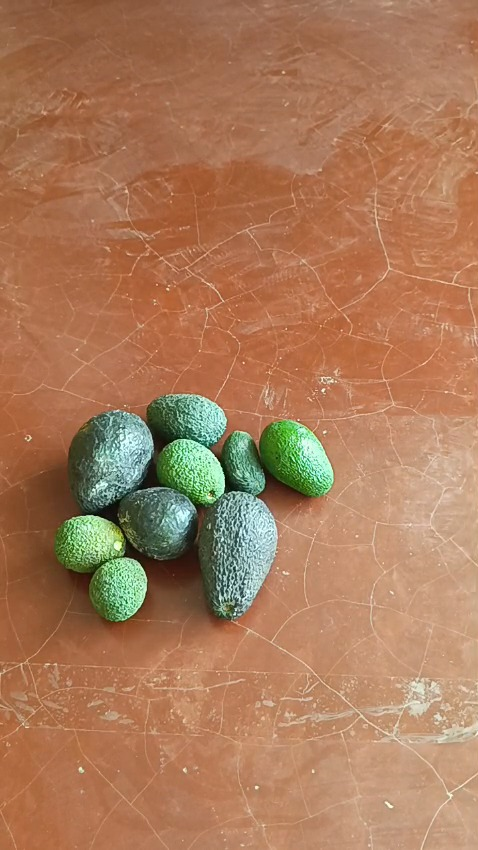Primera: (198, 490, 278, 619), (66, 410, 155, 513), (116, 487, 198, 561)
Segunda: (259, 419, 333, 496), (155, 439, 225, 507), (144, 392, 226, 447)
Tercera: (86, 554, 149, 622), (54, 514, 125, 573), (220, 430, 265, 497)
